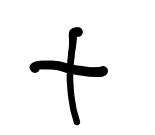plus: (29, 27, 109, 126)
